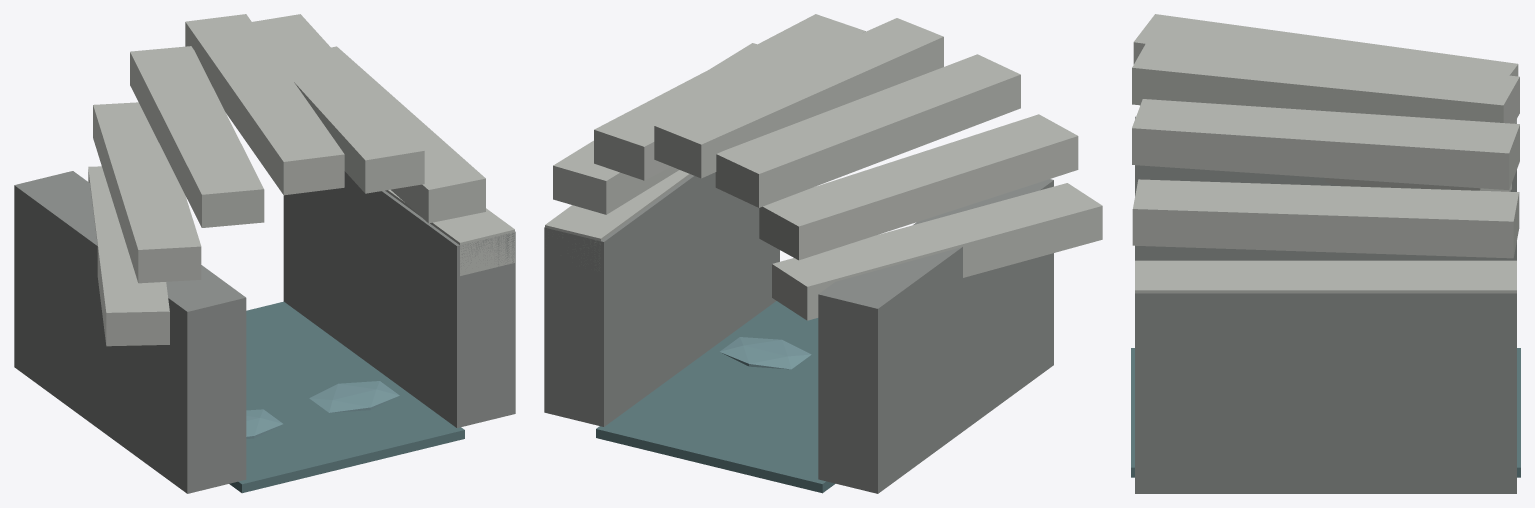
File: bridge_beneath_culvert.glb
3 views of the same model, side by side, from view 1: azimuth 30°, elevation 25°; view 2: azimuth 150°, elevation 25°; view 3: azimuth 270°, elevation 25° (orthographic). The views are drawn at different scales.
Visible parts, largest first — view 1: bridge_beneath_culvert_material_00, bridge_beneath_culvert_material_01, bridge_beneath_culvert_material_02, bridge_beneath_culvert_material_03; view 2: bridge_beneath_culvert_material_01, bridge_beneath_culvert_material_00, bridge_beneath_culvert_material_02, bridge_beneath_culvert_material_03; view 3: bridge_beneath_culvert_material_01, bridge_beneath_culvert_material_00, bridge_beneath_culvert_material_02.
Boxes of the visible parts, x1=… form: bridge_beneath_culvert_material_00: x1=14, y1=171, x2=515, y2=493; bridge_beneath_culvert_material_01: x1=88, y1=14, x2=514, y2=346; bridge_beneath_culvert_material_02: x1=229, y1=301, x2=464, y2=493; bridge_beneath_culvert_material_03: x1=246, y1=381, x2=399, y2=438; bridge_beneath_culvert_material_01: x1=545, y1=14, x2=1102, y2=320; bridge_beneath_culvert_material_00: x1=544, y1=172, x2=1053, y2=493; bridge_beneath_culvert_material_02: x1=596, y1=301, x2=835, y2=493; bridge_beneath_culvert_material_03: x1=720, y1=337, x2=811, y2=369; bridge_beneath_culvert_material_01: x1=1132, y1=14, x2=1519, y2=292; bridge_beneath_culvert_material_00: x1=1135, y1=116, x2=1516, y2=493; bridge_beneath_culvert_material_02: x1=1131, y1=348, x2=1520, y2=477.
Size of the model in its own units: 3.21 by 2.44 by 2.5.
